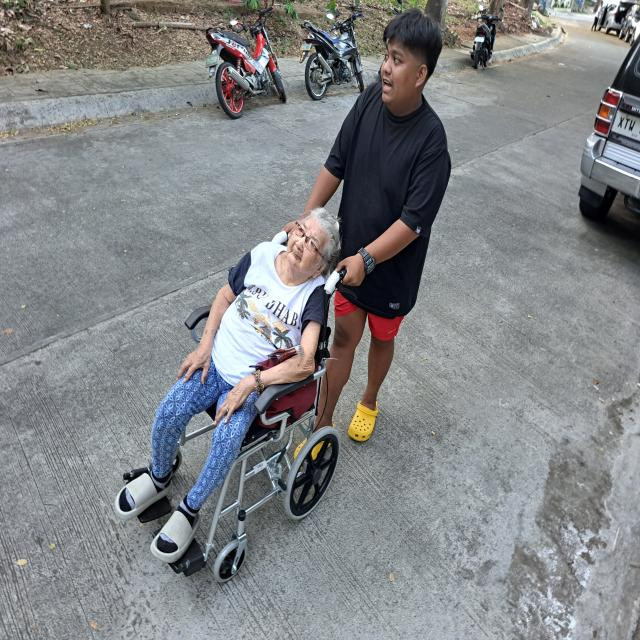wheelchairs: (125, 255, 349, 590)
